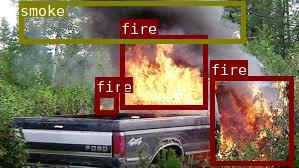fire: (210, 76, 293, 164), (119, 34, 207, 109), (95, 93, 118, 113)
smoke: (18, 0, 244, 42)
